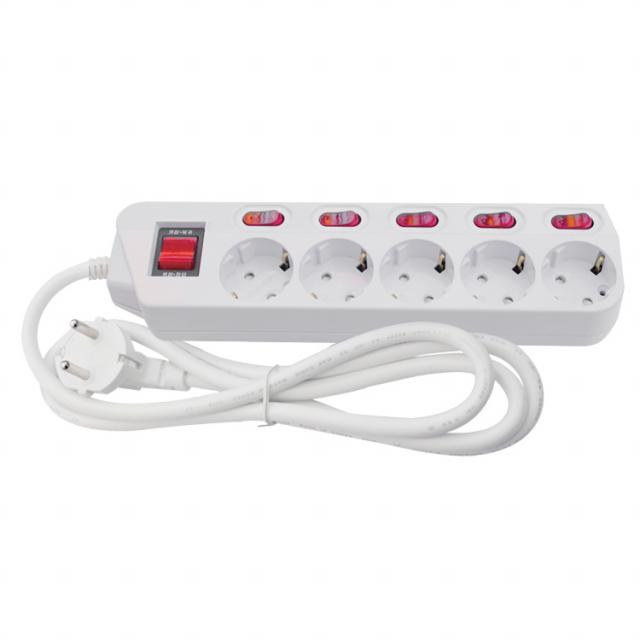typeb: (84, 179, 630, 349)
